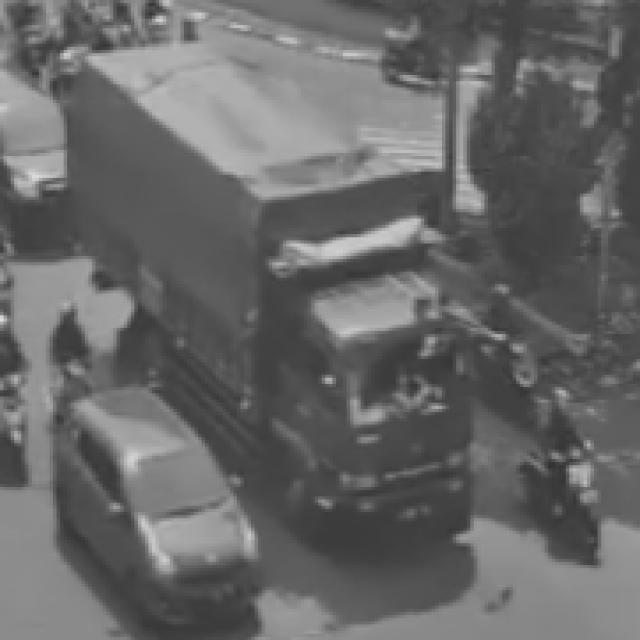Truck: (276, 182, 504, 566)
